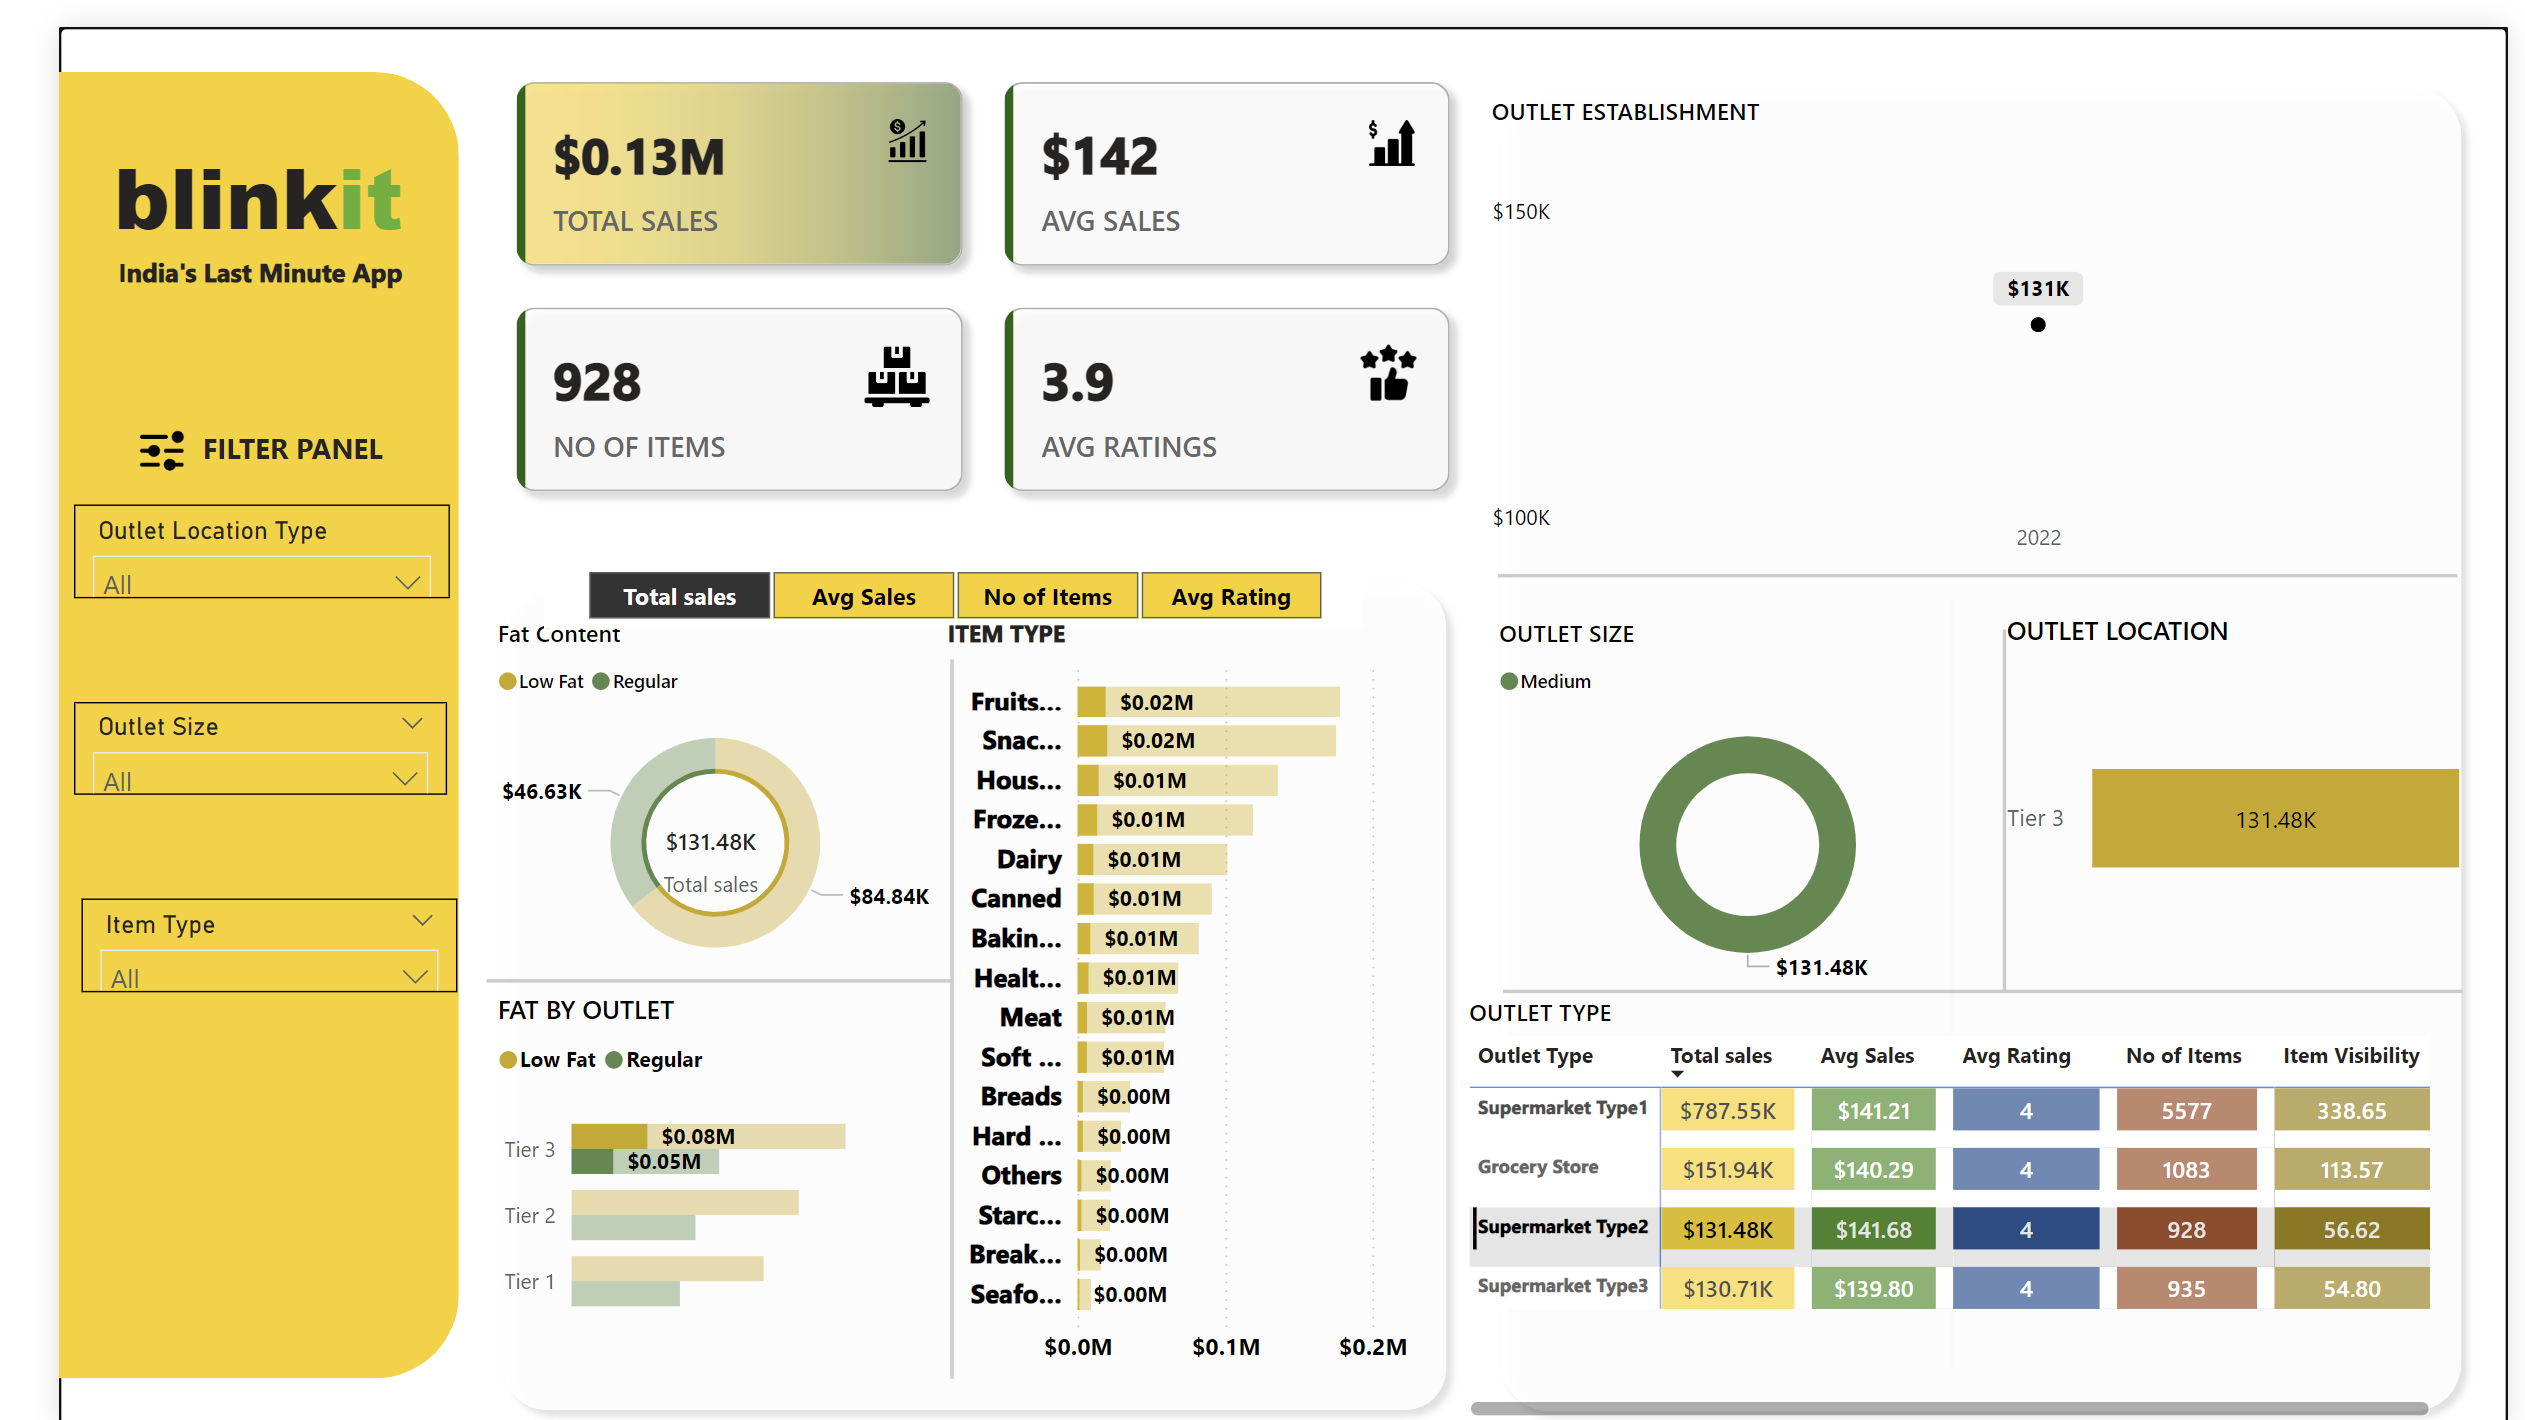

Layout of this report page (visuals, bound fields, positions):
{"tool":"powerbi","page":{"name":"Page 1","canvas":[1400,800],"ordinal":0},"visuals":[{"type":"shape","box":[0,25.7,228.6,747.1],"z":0},{"type":"textbox","box":[0,57.6,227.9,77.7],"z":1000},{"type":"textbox","box":[6.7,124.7,215.8,50.9],"z":2000},{"type":"cardVisual","fields":{"Data":["BlinkIT Grocery Data.Total sales","BlinkIT Grocery Data.Avg Sales","BlinkIT Grocery Data.No of Items","BlinkIT Grocery Data.Avg Rating"]},"box":[244.6,14.2,569.7,269.8],"z":3000},{"type":"shape","box":[245,310,556.7,490],"z":4000},{"type":"donutChart","title":"Fat Content","fields":{"Y":["BlinkIT Grocery Data.Total sales"],"Category":["BlinkIT Grocery Data.Item Fat Content"]},"box":[245,336.7,258.3,215],"z":5000},{"type":"slicer","fields":{"Values":["Metrics.Metrics"]},"box":[277.7,304.6,468.7,39.5],"z":6000},{"type":"card","fields":{"Values":["BlinkIT Grocery Data.Total sales"]},"box":[303,448.2,138.9,55.2],"z":7000},{"type":"clusteredBarChart","title":"FAT BY OUTLET","fields":{"Y":["BlinkIT Grocery Data.Total sales"],"Category":["BlinkIT Grocery Data.Outlet Location Type"],"Series":["BlinkIT Grocery Data.Item Fat Content"]},"box":[245,551.7,258.3,201.7],"z":8000},{"type":"shape","box":[1065.2,326.7,33.1,440.3],"z":9000},{"type":"shape","box":[244,522.8,266.8,45.6],"z":10000},{"type":"barChart","title":"ITEM TYPE","fields":{"Y":["BlinkIT Grocery Data.Total sales"],"Category":["BlinkIT Grocery Data.Item Type"]},"box":[503.3,336.7,298.3,436.7],"z":11000},{"type":"shape","box":[815,25,566.7,775],"z":12000},{"type":"lineChart","title":"OUTLET ESTABLISHMENT","fields":{"Category":["BlinkIT Grocery Data.Outlet Establishment Year"],"Y":["BlinkIT Grocery Data.Total sales"]},"box":[814.3,37.9,585.4,271.4],"z":13000},{"type":"donutChart","title":"OUTLET SIZE","fields":{"Y":["BlinkIT Grocery Data.Total sales"],"Category":["BlinkIT Grocery Data.Outlet Size"]},"box":[819,337.8,293.6,217.2],"z":14000},{"type":"shape","box":[823.1,290.9,548.3,44.2],"z":15000},{"type":"shape","box":[504,361.9,12.1,411.5],"z":16000},{"type":"funnel","title":"OUTLET LOCATION","fields":{"Category":["BlinkIT Grocery Data.Outlet Location Type"],"Y":["Sum(BlinkIT Grocery Data.Sales)"]},"box":[1108.3,335,273.3,216.7],"z":17000},{"type":"shape","box":[1081.7,345,61.7,206.7],"z":18000},{"type":"shape","box":[825,530,548.3,43.3],"z":19000},{"type":"pivotTable","title":"OUTLET TYPE","fields":{"Rows":["BlinkIT Grocery Data.Outlet Type"],"Values":["BlinkIT Grocery Data.Total sales","BlinkIT Grocery Data.Avg Sales","BlinkIT Grocery Data.Avg Rating","BlinkIT Grocery Data.No of Items","Sum(BlinkIT Grocery Data.Item Visibility)"]},"box":[801.6,555,559,245.3],"z":20000},{"type":"slicer","fields":{"Values":["BlinkIT Grocery Data.Outlet Location Type"]},"box":[7.9,273,214.6,53.7],"z":21000},{"type":"slicer","fields":{"Values":["BlinkIT Grocery Data.Outlet Size"]},"box":[7.9,385,213,53.7],"z":22000},{"type":"slicer","fields":{"Values":["BlinkIT Grocery Data.Item Type"]},"box":[12.6,498.7,214.6,53.7],"z":23000},{"type":"textbox","box":[77.7,223.9,124.7,37.5],"z":24000},{"type":"image","box":[40.2,218.5,37.5,46.9],"z":25000}]}

Visuals, with their boxes in screenshot pixels (x1, y1, x2, y2), scaled from the page's 1400x800 canvas onto the 2525x1420 screenshot:
shape: <region>0, 46, 412, 1372</region>
textbox: <region>0, 102, 411, 240</region>
textbox: <region>12, 221, 401, 312</region>
cardVisual - BlinkIT Grocery Data.Total sales x BlinkIT Grocery Data.Avg Sales: <region>441, 25, 1469, 504</region>
shape: <region>442, 550, 1446, 1419</region>
"Fat Content" donutChart: <region>442, 598, 908, 979</region>
slicer - Metrics.Metrics: <region>501, 541, 1346, 611</region>
card - BlinkIT Grocery Data.Total sales: <region>546, 796, 797, 894</region>
"FAT BY OUTLET" clusteredBarChart: <region>442, 979, 908, 1337</region>
shape: <region>1921, 580, 1981, 1361</region>
shape: <region>440, 928, 921, 1009</region>
"ITEM TYPE" barChart: <region>908, 598, 1446, 1373</region>
shape: <region>1470, 44, 2492, 1419</region>
"OUTLET ESTABLISHMENT" lineChart: <region>1469, 67, 2524, 549</region>
"OUTLET SIZE" donutChart: <region>1477, 600, 2007, 985</region>
shape: <region>1485, 516, 2473, 595</region>
shape: <region>909, 642, 931, 1373</region>
"OUTLET LOCATION" funnel: <region>1999, 595, 2492, 979</region>
shape: <region>1951, 612, 2062, 979</region>
shape: <region>1488, 941, 2477, 1018</region>
"OUTLET TYPE" pivotTable: <region>1446, 985, 2454, 1419</region>
slicer - BlinkIT Grocery Data.Outlet Location Type: <region>14, 485, 401, 580</region>
slicer - BlinkIT Grocery Data.Outlet Size: <region>14, 683, 398, 779</region>
slicer - BlinkIT Grocery Data.Item Type: <region>23, 885, 410, 981</region>
textbox: <region>140, 397, 365, 464</region>
image: <region>73, 388, 140, 471</region>
